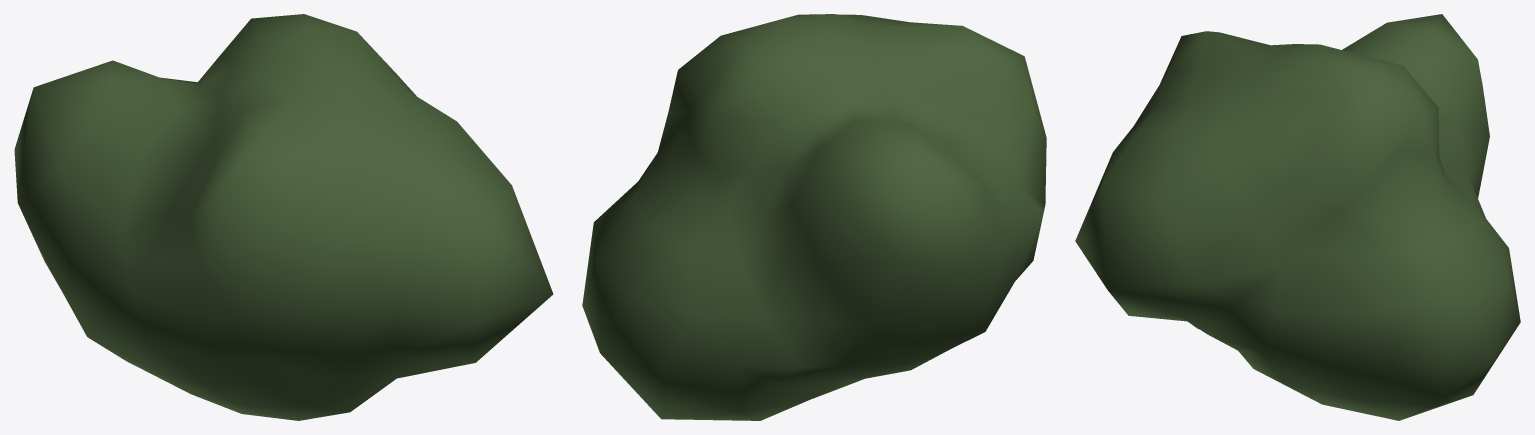
File: p_mesh_trashbot_sprayprojectile_drop_pose1.fbx
3 views of the same model, side by side, from view 1: azimuth 30°, elevation 25°; view 2: azimuth 150°, elevation 25°; view 3: azimuth 270°, elevation 25° (orthographic). The views are drawn at different scales.
Visible parts, largest first — view 1: p_mesh_trashbot_sprayprojectile_drop_pose1; view 2: p_mesh_trashbot_sprayprojectile_drop_pose1; view 3: p_mesh_trashbot_sprayprojectile_drop_pose1.
Part boxes in pixels (x1,y1,x2,y2): p_mesh_trashbot_sprayprojectile_drop_pose1: (14,14,553,420); p_mesh_trashbot_sprayprojectile_drop_pose1: (582,14,1046,420); p_mesh_trashbot_sprayprojectile_drop_pose1: (1075,14,1520,420).
Bounding box in the file's own units: 2.51 × 2.35 × 2.77.
